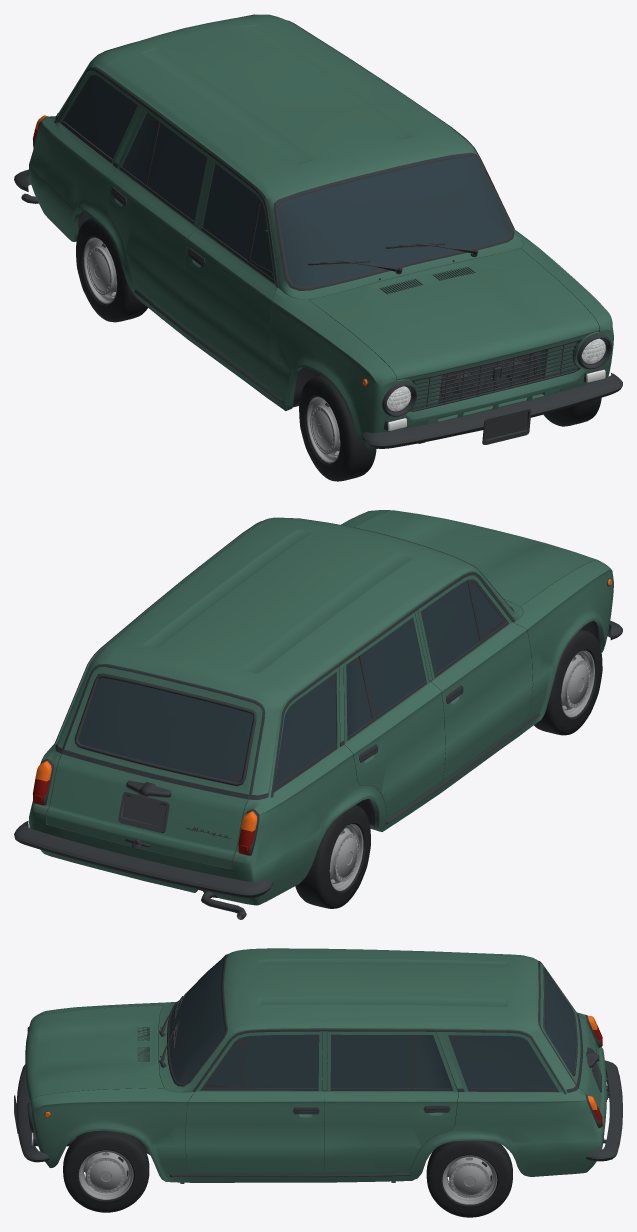
The model's file is vaz2102.glb.
3 views of the same model, one above another, from view 1: azimuth 30°, elevation 25°; view 2: azimuth 150°, elevation 25°; view 3: azimuth 270°, elevation 25° (orthographic). The views are drawn at different scales.
Visible parts, largest first — view 1: chassisbody, glass, interior, chassis_trim, wheel_fr, wheel_rr, headlights, wheel_fl; view 2: chassisbody, glass, interior, chassis_trim, wheel_rr, wheel_fr, taillights; view 3: chassisbody, glass, interior, wheel_fl, wheel_rl, chassis_trim.
Boxes of the visible parts, <box> form: chassisbody: <box>29,14,613,449</box>; glass: <box>64,75,511,286</box>; interior: <box>14,14,622,448</box>; chassis_trim: <box>21,72,599,444</box>; wheel_fr: <box>299,375,376,481</box>; wheel_rr: <box>76,218,147,322</box>; headlights: <box>387,338,605,430</box>; wheel_fl: <box>544,398,601,426</box>; chassisbody: <box>29,510,613,905</box>; glass: <box>78,580,501,786</box>; interior: <box>14,517,622,898</box>; chassis_trim: <box>46,510,595,919</box>; wheel_rr: <box>295,805,370,908</box>; wheel_fr: <box>534,629,602,735</box>; taillights: <box>33,779,255,855</box>; chassisbody: <box>25,948,606,1182</box>; glass: <box>169,956,575,1088</box>; interior: <box>16,948,622,1183</box>; wheel_fl: <box>63,1130,149,1212</box>; wheel_rl: <box>426,1140,512,1217</box>; chassis_trim: <box>14,962,610,1172</box>.
Bounding box in the file's own units: 1.71 × 1.49 × 4.26.
